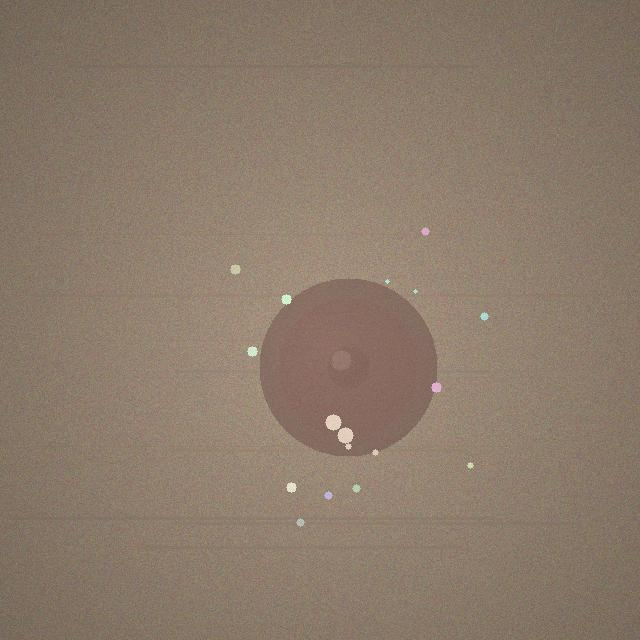overburn: (259, 278, 437, 456)
